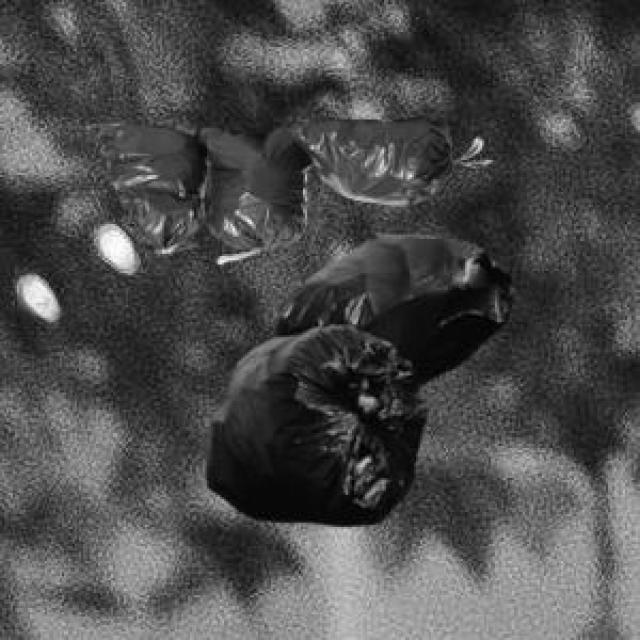miscellaneous trash: (203, 230, 510, 523), (84, 115, 478, 260)
